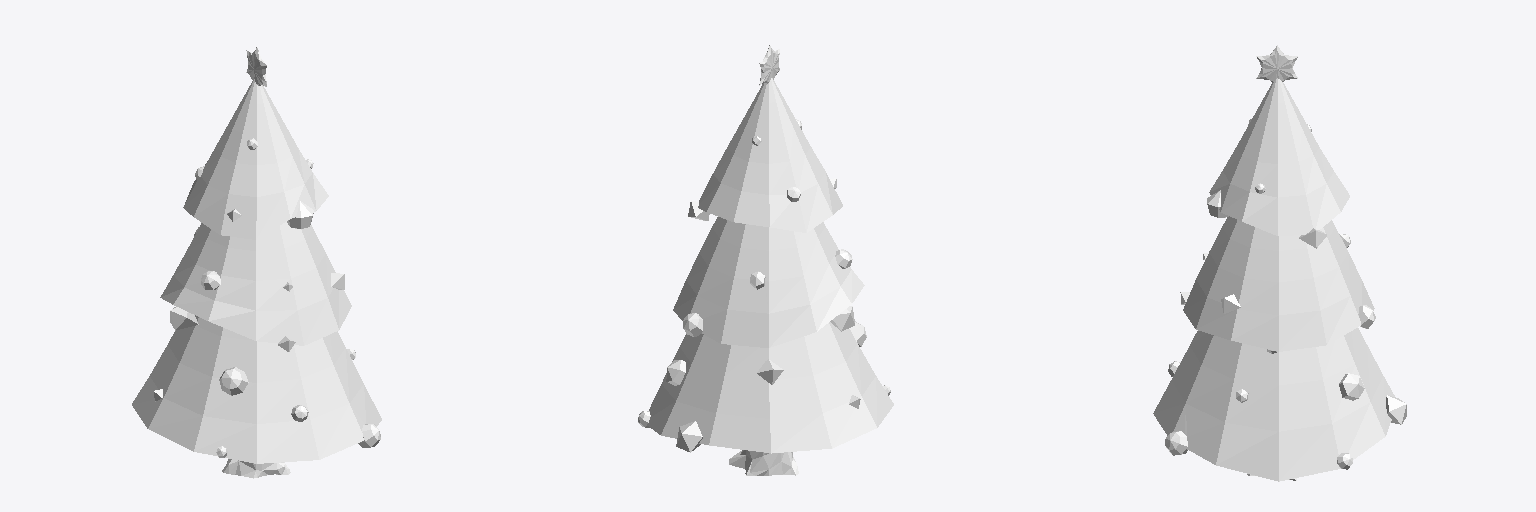
Rendered from ChristmasTree.obj.
3 renders of one model, left to right at view 1: azimuth 30°, elevation 25°; view 2: azimuth 150°, elevation 25°; view 3: azimuth 270°, elevation 25°, orthographic.
Visible parts, largest first — view 1: Sphere025; view 2: Sphere025; view 3: Sphere025.
Part boxes in pixels (bbox=[...]): Sphere025: bbox=[132, 47, 381, 478]; Sphere025: bbox=[638, 45, 893, 475]; Sphere025: bbox=[1153, 45, 1406, 481].
Size of the model in its own units: 352 by 651 by 355.